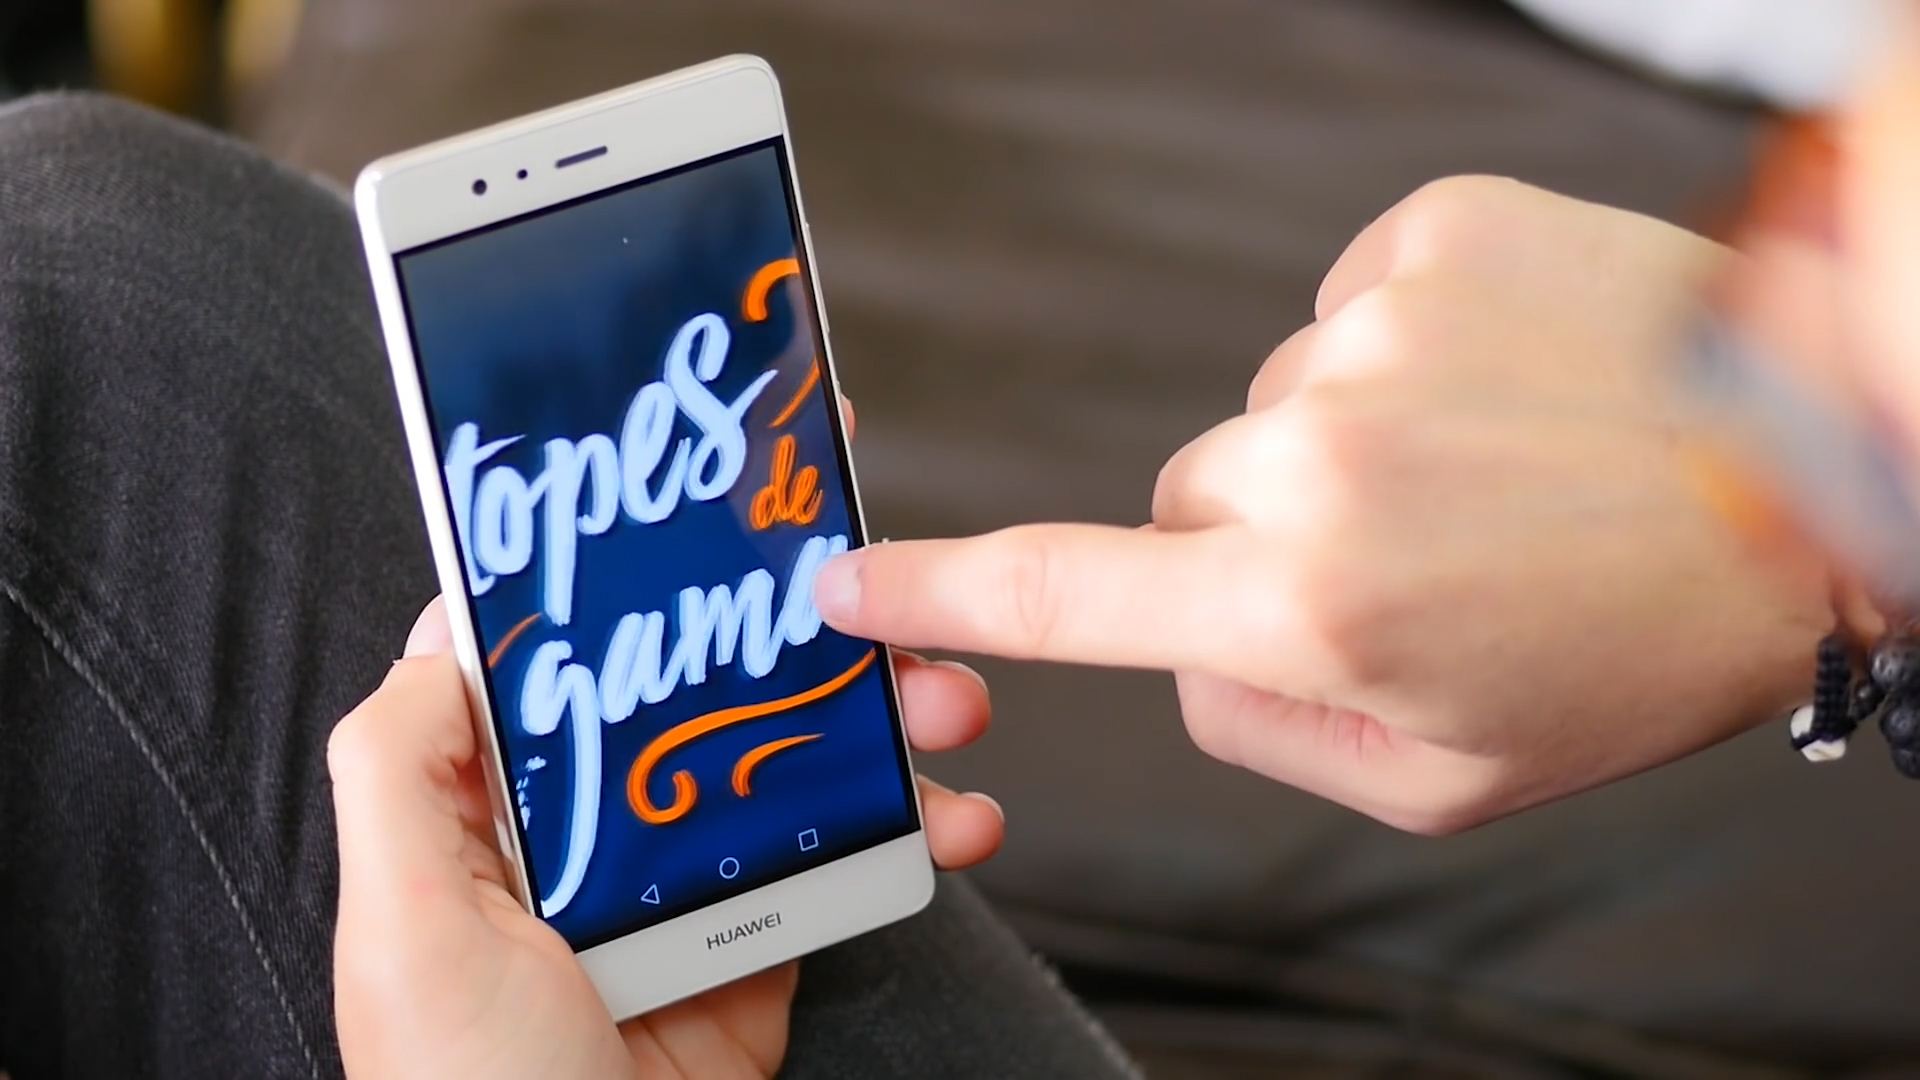smartphone: (348, 47, 942, 1034)
